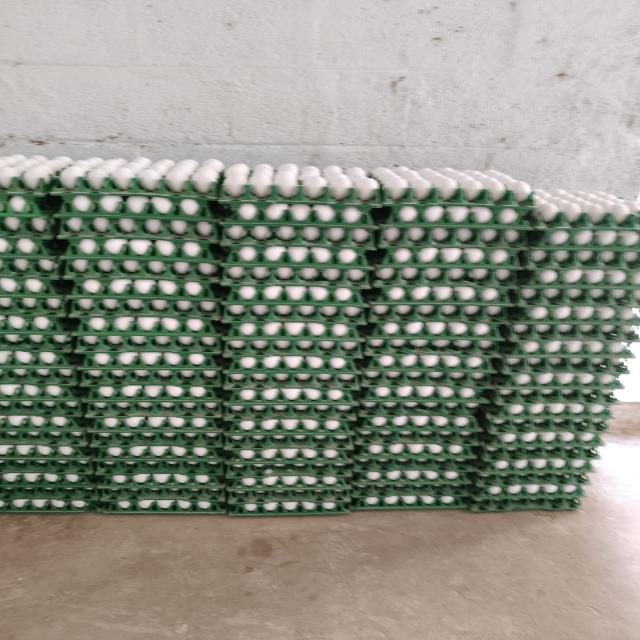egg_tray: (226, 388, 354, 515), (226, 341, 355, 462), (226, 343, 355, 462), (78, 317, 220, 414), (370, 247, 518, 338), (60, 194, 217, 278), (354, 408, 479, 509), (92, 416, 223, 512), (225, 418, 352, 514), (225, 350, 356, 436), (0, 154, 70, 314), (525, 190, 639, 286), (225, 418, 353, 502), (226, 408, 355, 489), (222, 286, 364, 358), (476, 418, 602, 499), (487, 357, 624, 430), (226, 387, 355, 464), (90, 415, 222, 488), (487, 358, 620, 430), (375, 167, 534, 227), (471, 437, 597, 510), (502, 305, 637, 373), (225, 420, 352, 492), (81, 351, 220, 416), (488, 359, 626, 424), (0, 416, 94, 511), (0, 414, 93, 510), (358, 376, 489, 444), (361, 348, 491, 414), (96, 446, 225, 512), (224, 344, 359, 406), (0, 316, 82, 415), (96, 432, 224, 494), (224, 350, 359, 406), (55, 195, 217, 241), (372, 166, 533, 212), (219, 163, 379, 209), (226, 407, 355, 464), (52, 157, 223, 200), (220, 203, 376, 250), (62, 278, 222, 322), (62, 238, 219, 281), (487, 369, 619, 420), (226, 461, 350, 514), (0, 443, 95, 512), (354, 409, 479, 461), (83, 370, 221, 417), (226, 414, 353, 465), (66, 278, 220, 320), (221, 246, 371, 288), (378, 207, 529, 248), (351, 459, 472, 510), (531, 189, 639, 246), (372, 246, 521, 287), (379, 204, 531, 243), (223, 245, 370, 285), (222, 285, 367, 325), (356, 398, 481, 444), (503, 321, 636, 364), (85, 382, 221, 424), (377, 229, 519, 269), (68, 283, 220, 320), (223, 285, 367, 324), (74, 316, 220, 354), (510, 282, 639, 325), (365, 317, 503, 356), (509, 285, 639, 326), (369, 284, 513, 321), (369, 286, 512, 323), (221, 290, 367, 326), (222, 321, 363, 358), (84, 380, 221, 417), (77, 352, 221, 387), (364, 321, 501, 357), (365, 318, 502, 354), (522, 244, 639, 286), (365, 370, 482, 411), (359, 353, 495, 388), (224, 355, 359, 390), (91, 423, 222, 459), (0, 210, 65, 282), (95, 454, 224, 490), (520, 250, 639, 289), (521, 265, 639, 304), (97, 460, 223, 496), (225, 460, 351, 496), (360, 377, 490, 411), (470, 474, 588, 511), (493, 358, 627, 390), (90, 431, 222, 463), (472, 464, 589, 500), (359, 385, 490, 417), (499, 354, 634, 385), (224, 432, 353, 464), (486, 392, 614, 424), (481, 415, 605, 448), (226, 386, 357, 417), (500, 332, 633, 362), (354, 428, 478, 460), (476, 442, 598, 474), (485, 385, 615, 415), (77, 351, 221, 377), (97, 485, 225, 514), (95, 486, 225, 514), (369, 298, 508, 324), (223, 316, 360, 342), (353, 457, 475, 486), (509, 304, 639, 331), (358, 408, 482, 436), (0, 154, 73, 201), (0, 415, 87, 454), (79, 366, 221, 389), (227, 490, 350, 516), (351, 483, 469, 510), (0, 453, 94, 486), (371, 283, 511, 305), (470, 484, 580, 512), (0, 458, 93, 490), (511, 285, 639, 308), (480, 411, 608, 434), (481, 424, 603, 448), (223, 400, 356, 422), (0, 188, 57, 238), (0, 190, 58, 239), (0, 236, 66, 279), (0, 350, 81, 385), (0, 351, 81, 386), (0, 315, 76, 352), (0, 190, 57, 239), (0, 382, 84, 415), (0, 436, 89, 467), (225, 414, 354, 435), (0, 277, 67, 316), (98, 494, 224, 514), (505, 323, 637, 342), (0, 487, 95, 512), (90, 415, 221, 433), (0, 314, 74, 341), (401, 354, 484, 378), (0, 414, 85, 431), (249, 496, 324, 513), (375, 354, 401, 375), (369, 438, 400, 451), (298, 443, 316, 459), (346, 273, 367, 286), (250, 405, 267, 418), (185, 319, 203, 330), (0, 503, 28, 510), (229, 501, 245, 512), (194, 353, 206, 367), (578, 378, 597, 386), (458, 232, 473, 242), (143, 477, 156, 487), (203, 432, 219, 440), (228, 405, 242, 414), (367, 496, 377, 508), (506, 234, 519, 243), (543, 324, 566, 329), (399, 323, 418, 329), (325, 501, 335, 512), (594, 421, 605, 431), (370, 447, 383, 455), (234, 390, 254, 395), (266, 447, 274, 459), (307, 495, 322, 501), (372, 446, 383, 454), (282, 419, 294, 426), (299, 342, 313, 348), (122, 352, 142, 356), (502, 433, 513, 440), (411, 442, 422, 449), (317, 342, 332, 347), (397, 369, 406, 377), (450, 447, 460, 454), (538, 376, 548, 383), (398, 350, 408, 357), (564, 487, 575, 493), (340, 450, 347, 459), (483, 236, 493, 242), (309, 342, 321, 347), (157, 502, 167, 508), (628, 272, 636, 279), (152, 281, 160, 288), (227, 373, 232, 383), (515, 491, 525, 496), (390, 447, 398, 453), (383, 323, 395, 327), (233, 482, 239, 490), (244, 451, 253, 456), (285, 446, 294, 451), (432, 447, 439, 453), (305, 419, 311, 426), (60, 450, 70, 454), (29, 416, 39, 420), (465, 171, 478, 174), (185, 434, 194, 438), (59, 340, 68, 344), (95, 441, 102, 446), (602, 377, 607, 384), (390, 447, 397, 452), (284, 452, 289, 459), (323, 344, 331, 348), (281, 372, 289, 376), (613, 371, 623, 374), (452, 447, 457, 453), (164, 281, 174, 284), (301, 343, 307, 348), (558, 425, 564, 430), (497, 262, 504, 266), (518, 461, 523, 466), (234, 358, 239, 363), (280, 344, 286, 348), (348, 374, 352, 380), (213, 339, 217, 345), (256, 343, 262, 347), (10, 416, 22, 418), (56, 348, 67, 350), (231, 509, 238, 512), (317, 442, 324, 445), (0, 202, 3, 209), (604, 378, 608, 383), (348, 373, 352, 378), (412, 402, 417, 406), (135, 473, 144, 475), (290, 496, 296, 499), (267, 361, 271, 365), (584, 381, 592, 383), (181, 283, 197, 284), (302, 287, 310, 289), (13, 196, 21, 198), (385, 406, 389, 410), (238, 415, 243, 418), (233, 485, 238, 488), (260, 420, 265, 423), (348, 350, 351, 355), (317, 343, 322, 346), (93, 432, 100, 434), (303, 282, 310, 284), (102, 434, 106, 437), (302, 344, 306, 347), (521, 434, 527, 436), (603, 359, 606, 363), (230, 282, 236, 284), (293, 327, 297, 330), (549, 490, 555, 492), (634, 252, 637, 256), (77, 505, 81, 508), (405, 504, 409, 507), (540, 427, 544, 430), (91, 354, 102, 355), (38, 506, 43, 508), (492, 426, 497, 428), (259, 292, 261, 297), (156, 473, 165, 474), (292, 407, 301, 408), (536, 434, 545, 435), (239, 509, 242, 512), (604, 284, 607, 287), (295, 491, 298, 494), (297, 421, 300, 424), (169, 354, 178, 355), (309, 343, 312, 346), (301, 346, 305, 348), (570, 390, 574, 392), (254, 443, 258, 445), (594, 366, 596, 370), (234, 380, 238, 382), (322, 325, 330, 326), (257, 344, 261, 346), (313, 507, 315, 511), (307, 497, 309, 501), (473, 404, 477, 406), (65, 412, 72, 413), (323, 325, 330, 326), (219, 441, 221, 444), (273, 362, 276, 364), (534, 234, 537, 236), (347, 347, 353, 348), (257, 345, 259, 348), (35, 503, 37, 506), (266, 509, 269, 511), (537, 461, 539, 464), (580, 379, 582, 382), (378, 329, 380, 332), (493, 264, 496, 266), (555, 272, 558, 274), (297, 497, 300, 499), (262, 496, 264, 499), (341, 336, 344, 338), (366, 371, 369, 373), (410, 499, 413, 501), (430, 408, 433, 410), (155, 445, 158, 447), (264, 390, 269, 391), (12, 416, 17, 417), (194, 391, 199, 392), (314, 507, 315, 512), (325, 345, 330, 346), (454, 445, 459, 446), (265, 416, 269, 417), (497, 378, 499, 380), (76, 505, 78, 507), (28, 502, 30, 504), (129, 428, 131, 430), (518, 427, 520, 429), (103, 467, 107, 468), (325, 284, 327, 286), (330, 348, 332, 350), (90, 394, 92, 396), (4, 203, 6, 205), (75, 505, 77, 507), (265, 318, 269, 319), (412, 502, 414, 504), (436, 444, 438, 446), (463, 418, 467, 419), (470, 408, 472, 410), (541, 425, 543, 427), (554, 434, 557, 435), (131, 429, 134, 430), (118, 373, 121, 374), (141, 372, 142, 375), (259, 282, 262, 283), (333, 494, 334, 497), (245, 421, 246, 424), (9, 338, 10, 341), (534, 285, 537, 286), (341, 288, 344, 289), (298, 498, 299, 501), (418, 503, 421, 504), (292, 415, 293, 417), (262, 400, 264, 401), (0, 281, 1, 283), (229, 487, 231, 488), (0, 160, 1, 162), (543, 410, 545, 411), (312, 509, 314, 510), (415, 447, 417, 448), (436, 438, 437, 440), (463, 374, 465, 375), (242, 458, 244, 459), (562, 363, 564, 364), (380, 336, 382, 337), (443, 336, 445, 337), (30, 416, 31, 418), (140, 467, 142, 468), (138, 478, 139, 480), (559, 272, 561, 273), (257, 496, 259, 497), (582, 280, 583, 282), (527, 284, 528, 286), (258, 476, 260, 477), (84, 505, 86, 506), (233, 318, 234, 320), (323, 314, 325, 315), (394, 498, 396, 499), (465, 354, 466, 356), (241, 392, 242, 393), (238, 467, 239, 468), (411, 234, 412, 235), (496, 427, 497, 428), (187, 427, 188, 428), (485, 341, 486, 342), (267, 496, 268, 497), (347, 345, 348, 346), (342, 336, 343, 337), (634, 258, 635, 259), (58, 422, 59, 423), (374, 418, 375, 419), (174, 434, 174, 434), (146, 474, 148, 474), (270, 403, 270, 404), (244, 390, 250, 390), (498, 236, 501, 236), (454, 443, 456, 443), (450, 442, 450, 443), (614, 387, 614, 388), (561, 383, 566, 383), (516, 310, 518, 310), (567, 432, 569, 432), (81, 412, 81, 415), (161, 430, 161, 430), (126, 423, 128, 423), (330, 510, 330, 510), (458, 412, 458, 412), (404, 434, 407, 434), (423, 374, 423, 374), (321, 458, 321, 459), (303, 374, 304, 374), (569, 370, 570, 370), (377, 336, 377, 337), (487, 253, 487, 254), (441, 422, 441, 424), (65, 450, 66, 450), (114, 472, 117, 472), (143, 465, 143, 466), (603, 272, 603, 272), (230, 467, 230, 468), (270, 421, 270, 422), (297, 374, 299, 374), (88, 356, 90, 356), (152, 354, 163, 354), (145, 354, 146, 354), (634, 232, 634, 232), (257, 472, 257, 472), (354, 416, 354, 416), (302, 414, 306, 414), (504, 292, 506, 292), (580, 490, 581, 490), (267, 510, 268, 510), (274, 502, 274, 503), (271, 501, 272, 501), (356, 386, 356, 386), (349, 354, 350, 354), (330, 350, 330, 350), (334, 298, 334, 300), (578, 252, 581, 252), (258, 472, 259, 472), (382, 356, 383, 356), (385, 354, 388, 354), (383, 450, 385, 450), (414, 409, 414, 410), (421, 407, 421, 408), (485, 383, 485, 383), (543, 421, 543, 422)
